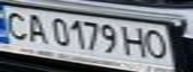0: (45, 15, 72, 47)
1: (66, 17, 84, 51)
7: (81, 19, 103, 52)
9: (96, 21, 121, 55)
A: (21, 11, 51, 44)
C: (0, 8, 33, 42)
H: (121, 24, 151, 58)
O: (139, 28, 172, 61)
